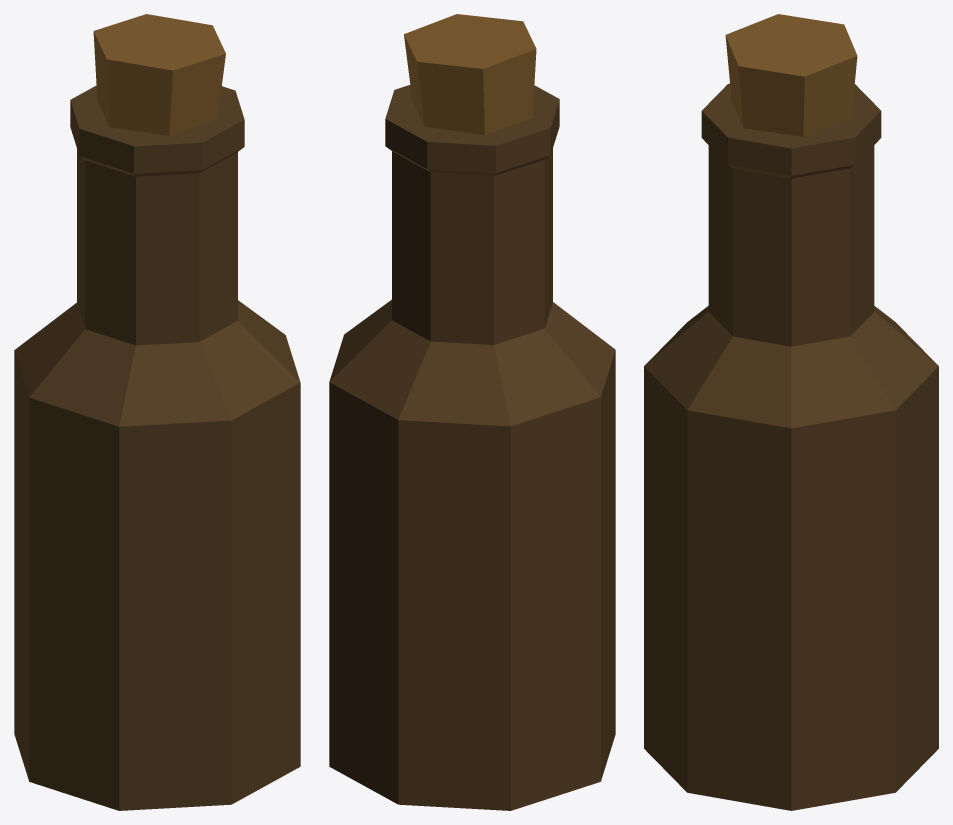
The model's file is bottle1.fbx.
3 renders of one model, left to right at view 1: azimuth 30°, elevation 25°; view 2: azimuth 150°, elevation 25°; view 3: azimuth 270°, elevation 25°, orthographic.
Visible parts, largest first — view 1: Cylinder; view 2: Cylinder; view 3: Cylinder.
Boxes of the visible parts, x1,y1,x2,y2 form: Cylinder: (14, 14, 300, 810); Cylinder: (329, 14, 615, 810); Cylinder: (644, 14, 938, 810).
Size of the model in its own units: 200 by 529 by 200.
